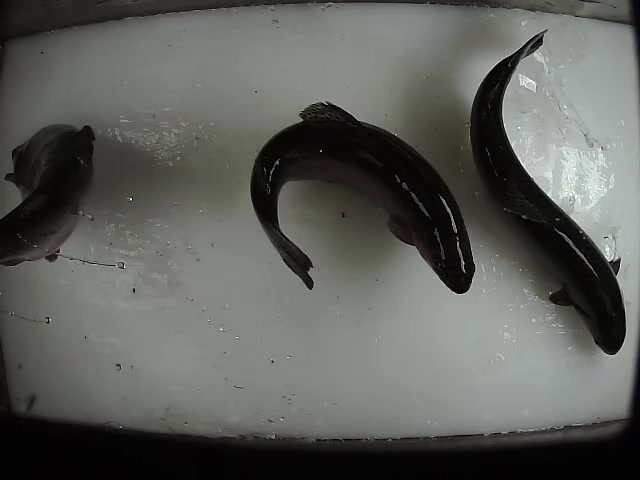fish: (465, 25, 630, 359), (247, 99, 479, 300), (1, 119, 102, 268)
